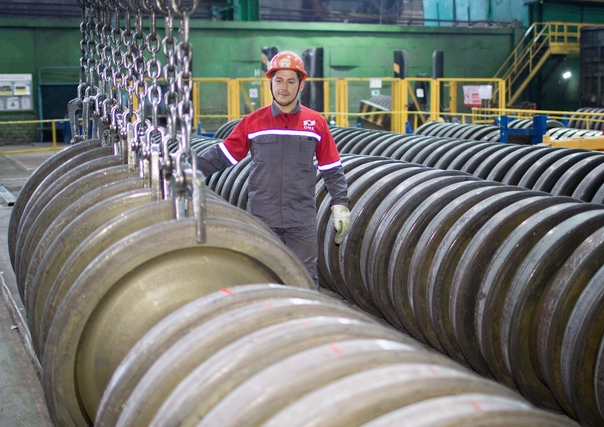person: (189, 51, 350, 295)
